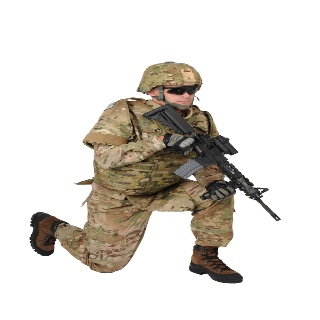rifle: (142, 104, 281, 224)
